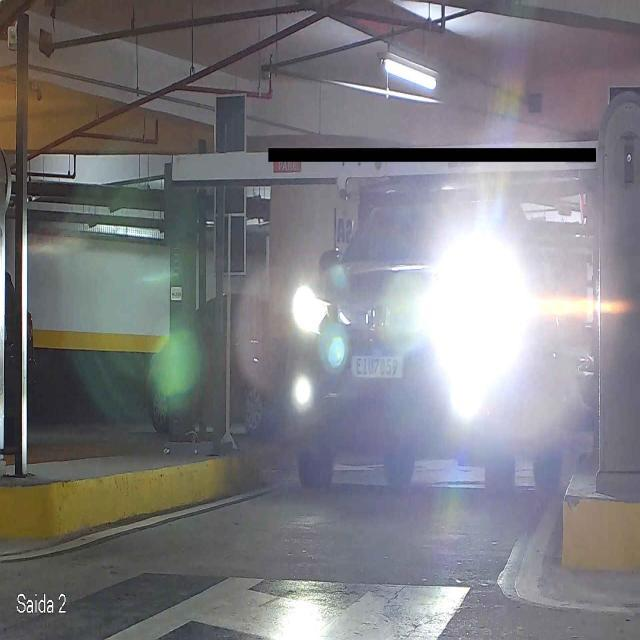mercosul_plate: (351, 353, 405, 380)
